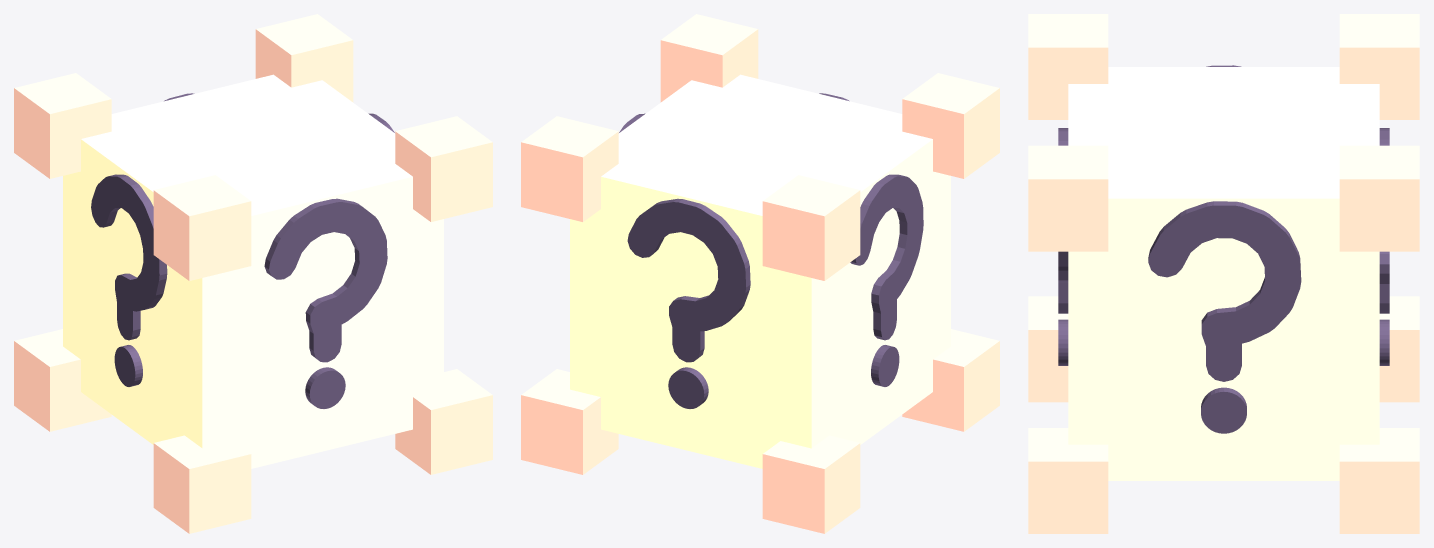
File: itembox.glb
3 renders of one model, left to right at view 1: azimuth 30°, elevation 25°; view 2: azimuth 150°, elevation 25°; view 3: azimuth 270°, elevation 25°, orthographic. The views are drawn at different scales.
Visible parts, largest first — view 1: BoxBody, BoxGlyph0, BoxCap3, BoxCap1, BoxCap7, BoxCap2, BoxCap5, BoxGlyph3, BoxCap0, BoxCap6; view 2: BoxBody, BoxGlyph2, BoxCap2, BoxCap0, BoxCap6, BoxCap3, BoxCap4, BoxGlyph3, BoxCap1, BoxCap7; view 3: BoxBody, BoxGlyph1, BoxCap6, BoxCap7, BoxCap4, BoxCap5, BoxCap2, BoxCap3, BoxCap0, BoxCap1, BoxGlyph0, BoxGlyph2.
Part boxes in pixels (x1=…): BoxBody: x1=63, y1=74, x2=443, y2=468; BoxGlyph0: x1=264, y1=198, x2=387, y2=408; BoxCap3: x1=153, y1=175, x2=251, y2=280; BoxCap1: x1=153, y1=435, x2=251, y2=533; BoxCap7: x1=395, y1=116, x2=492, y2=221; BoxCap2: x1=14, y1=73, x2=111, y2=178; BoxCap5: x1=395, y1=369, x2=492, y2=474; BoxGlyph3: x1=91, y1=174, x2=167, y2=386; BoxCap0: x1=14, y1=329, x2=111, y2=431; BoxCap6: x1=255, y1=14, x2=353, y2=102; BoxBody: x1=570, y1=74, x2=950, y2=468; BoxGlyph2: x1=627, y1=198, x2=750, y2=408; BoxCap2: x1=762, y1=175, x2=860, y2=280; BoxCap0: x1=762, y1=435, x2=860, y2=533; BoxCap6: x1=521, y1=116, x2=618, y2=221; BoxCap3: x1=902, y1=73, x2=999, y2=178; BoxCap4: x1=521, y1=369, x2=618, y2=474; BoxGlyph3: x1=850, y1=174, x2=923, y2=386; BoxCap1: x1=902, y1=329, x2=999, y2=431; BoxCap7: x1=660, y1=14, x2=758, y2=102; BoxBody: x1=1068, y1=67, x2=1379, y2=480; BoxGlyph1: x1=1148, y1=201, x2=1301, y2=433; BoxCap6: x1=1339, y1=145, x2=1419, y2=251; BoxCap7: x1=1028, y1=145, x2=1108, y2=251; BoxCap4: x1=1339, y1=428, x2=1419, y2=533; BoxCap5: x1=1028, y1=428, x2=1108, y2=533; BoxCap2: x1=1339, y1=14, x2=1419, y2=119; BoxCap3: x1=1028, y1=14, x2=1108, y2=119; BoxCap0: x1=1379, y1=296, x2=1419, y2=402; BoxCap1: x1=1028, y1=296, x2=1068, y2=402; BoxGlyph0: x1=1058, y1=128, x2=1068, y2=365; BoxGlyph2: x1=1379, y1=128, x2=1389, y2=365.
Size of the model in its own units: 0.98 by 0.98 by 0.98.
